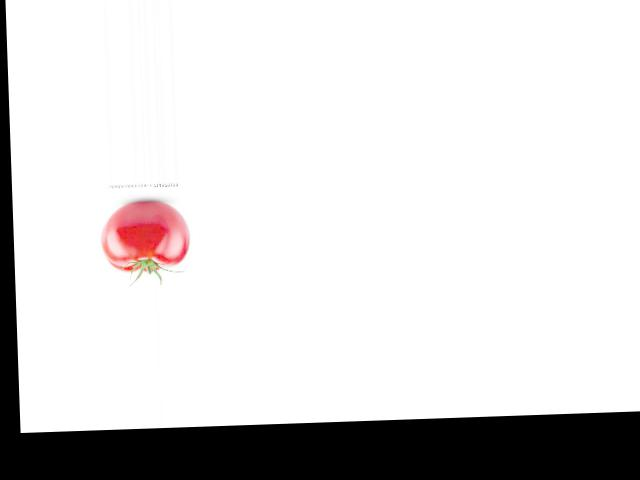tomato: (100, 200, 191, 272)
